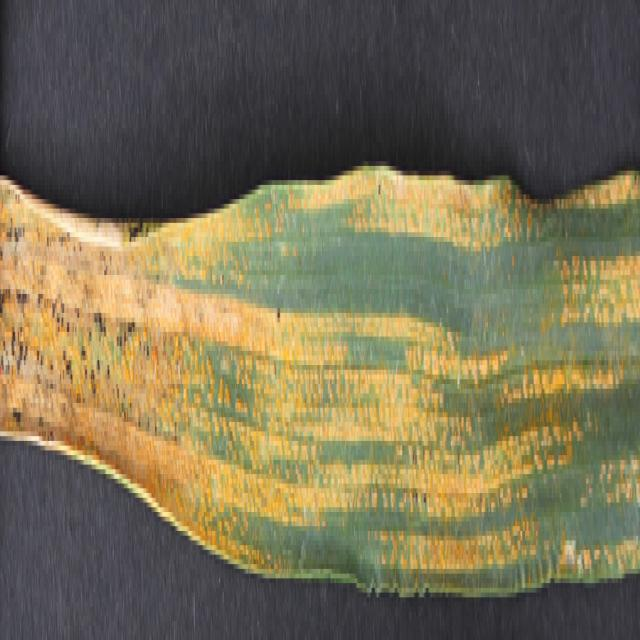leaf rust: (0, 156, 640, 606)
